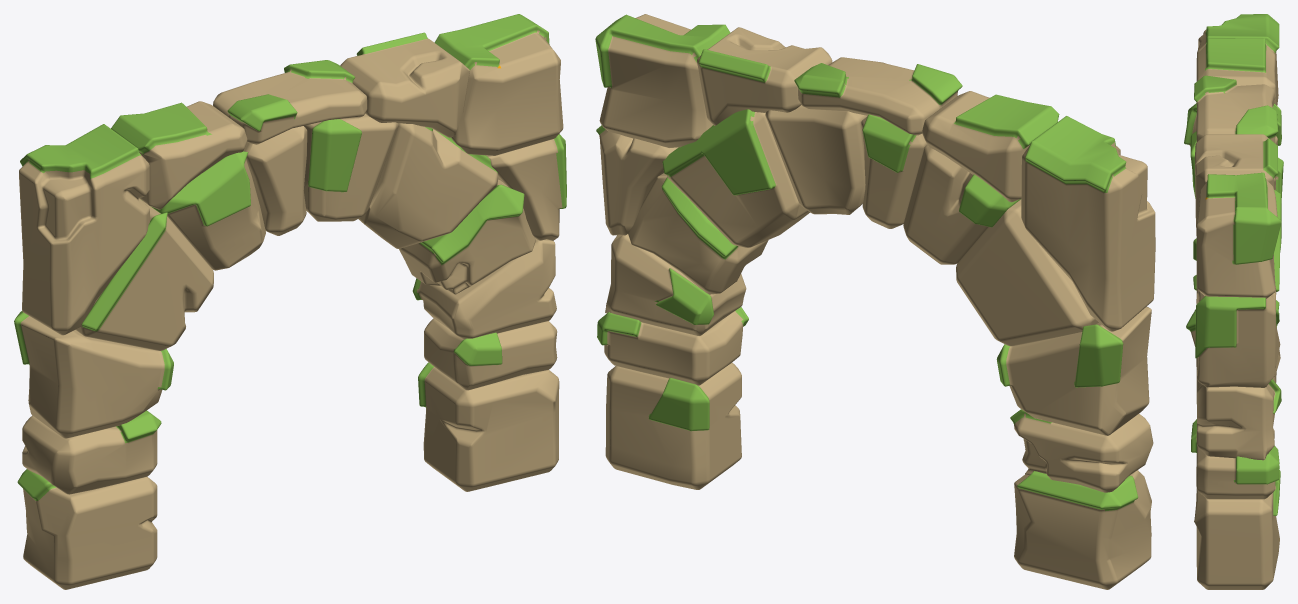
Rendered from Tile_Doors.fbx.
3 renders of one model, left to right at view 1: azimuth 30°, elevation 25°; view 2: azimuth 150°, elevation 25°; view 3: azimuth 270°, elevation 25°, orthographic. The views are drawn at different scales.
Visible parts, largest first — view 1: Cube.050; view 2: Cube.050; view 3: Cube.050.
Part boxes in pixels (<box>): Cube.050: <box>14,14,566,589</box>; Cube.050: <box>595,14,1155,589</box>; Cube.050: <box>1184,14,1283,589</box>.
Bounding box in the file's own units: 210 × 169 × 39.47.
1 material, 1 textured.
